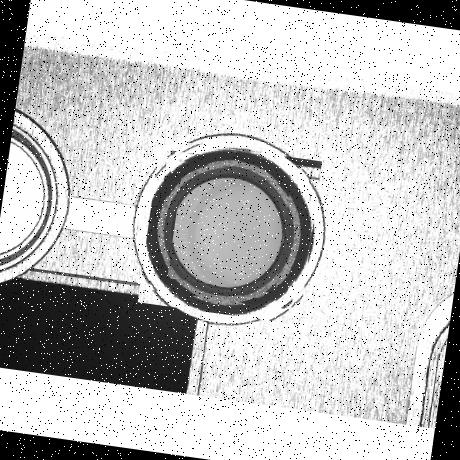Hole: (137, 138, 323, 324)
Hole2: (148, 148, 310, 310)
Hole3: (156, 157, 302, 302)
Hole4: (166, 169, 292, 293)
